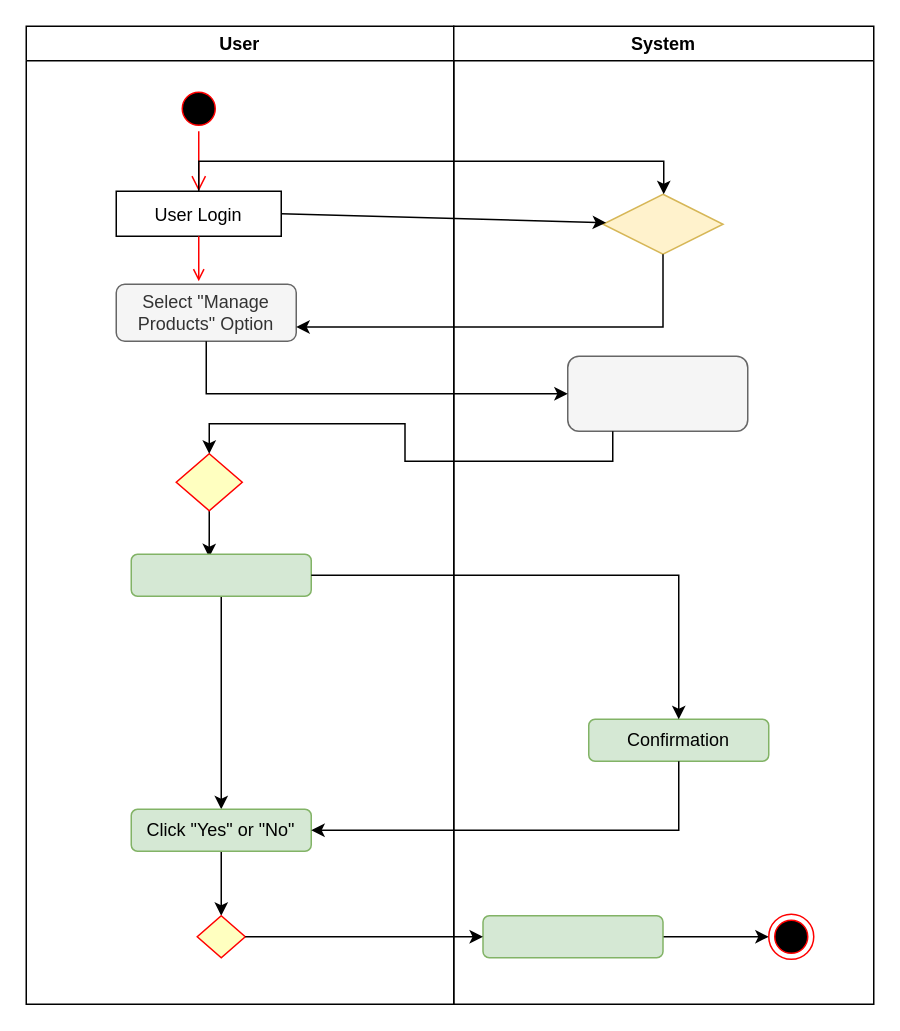
This 900x1031 diagram has some shape labels left out. The centre of each missing label's shape, as x and y in pixels:
Click "Delivery Successful": [220,574]
Display the actual delivery pending: [657,393]
Update database: [572,936]
